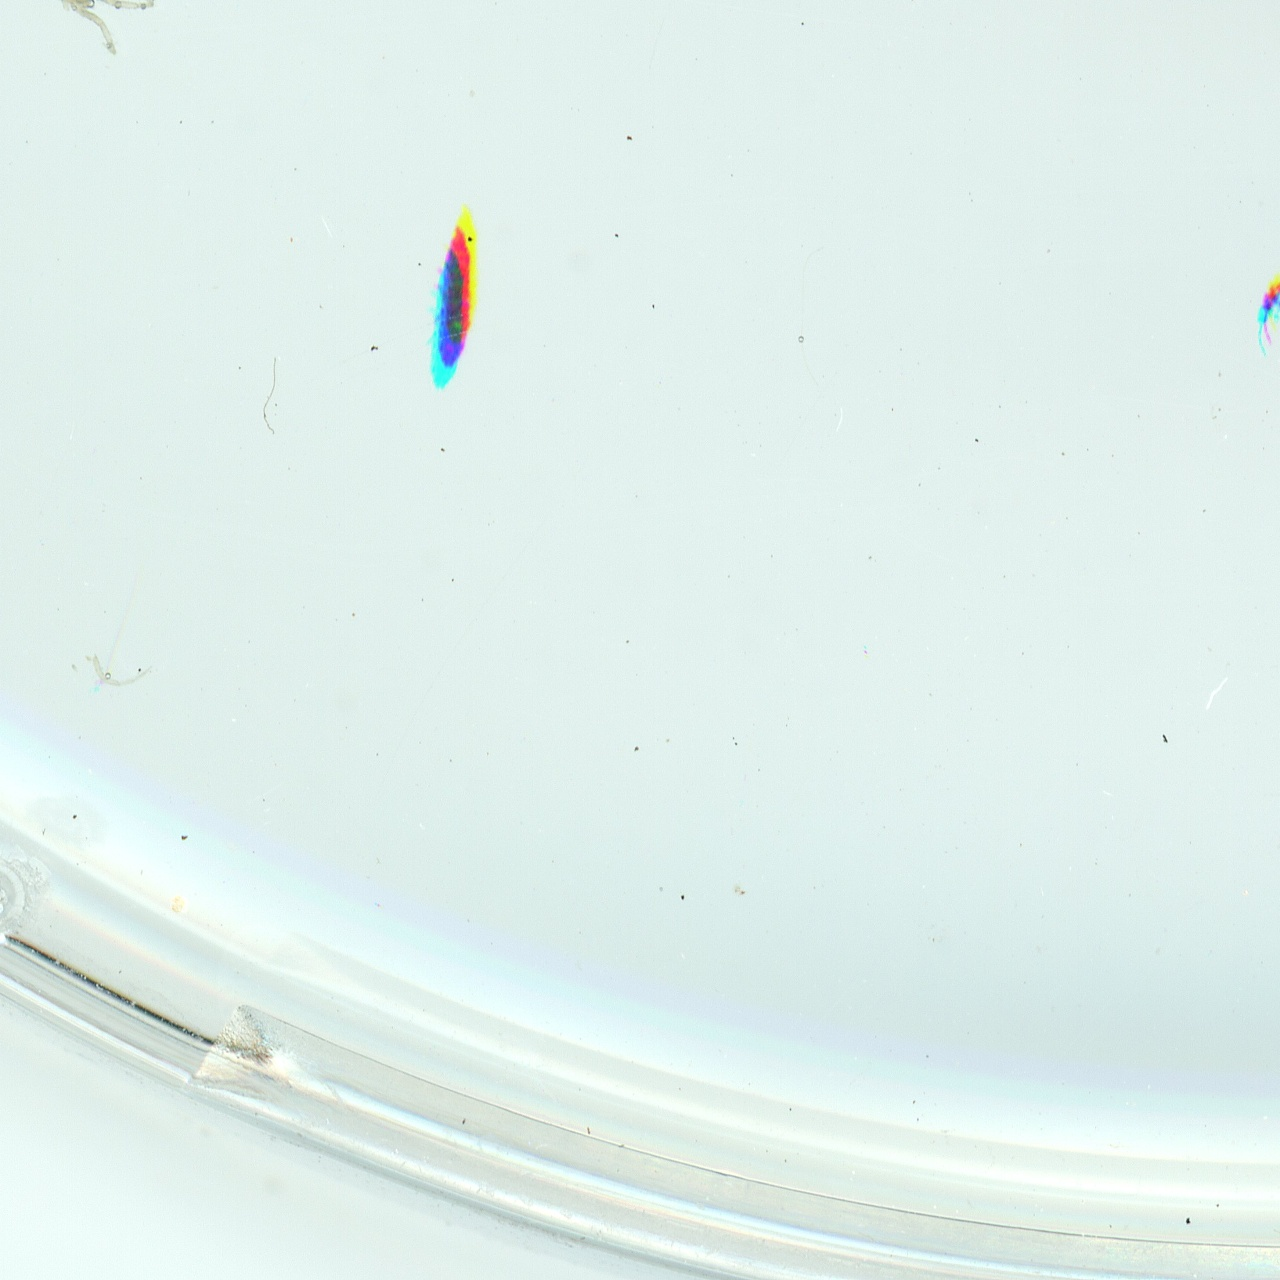arthropod: (2, 0, 168, 65), (433, 199, 483, 397), (1247, 259, 1280, 363)
